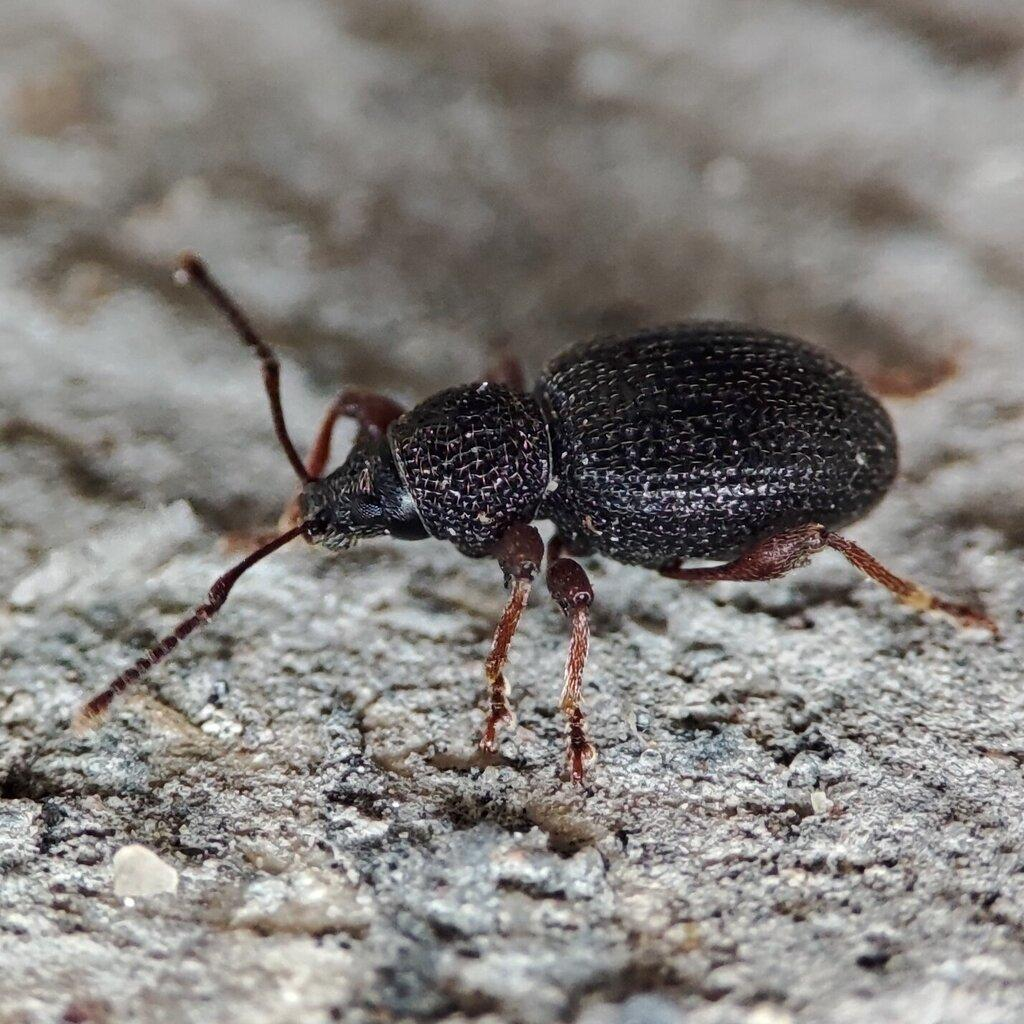weevils: (27, 163, 1024, 847)
